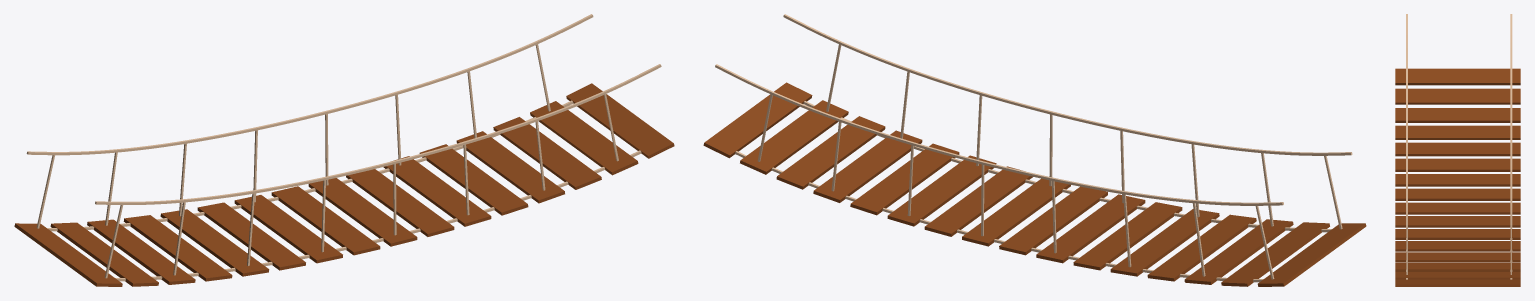
File: RopeBridge.fbx
3 renders of one model, left to right at view 1: azimuth 30°, elevation 25°; view 2: azimuth 150°, elevation 25°; view 3: azimuth 270°, elevation 25°, orthographic. The views are drawn at different scales.
Visible parts, largest first — view 1: Cube.001, Cube.006, Cube.007, Cube.005, Cube.004; view 2: Cube.001, Cube.007, Cube.006, Cube.004, Cube.005; view 3: Cube.001, Cube.006, Cube.007, Cube.015, Cube.024.
Boxes of the visible parts, x1,y1,x2,y2 form: Cube.001: [14, 83, 674, 286]; Cube.006: [26, 14, 593, 155]; Cube.007: [95, 64, 661, 204]; Cube.005: [115, 150, 641, 281]; Cube.004: [47, 100, 573, 231]; Cube.001: [703, 82, 1366, 286]; Cube.007: [783, 14, 1352, 155]; Cube.006: [715, 64, 1283, 205]; Cube.004: [735, 151, 1263, 282]; Cube.005: [803, 101, 1331, 232]; Cube.001: [1395, 68, 1520, 286]; Cube.006: [1510, 14, 1512, 226]; Cube.007: [1406, 14, 1407, 226]; Cube.015: [1510, 227, 1511, 274]; Cube.024: [1406, 227, 1407, 274].
Size of the model in its own units: 403 by 72.88 by 98.97.
